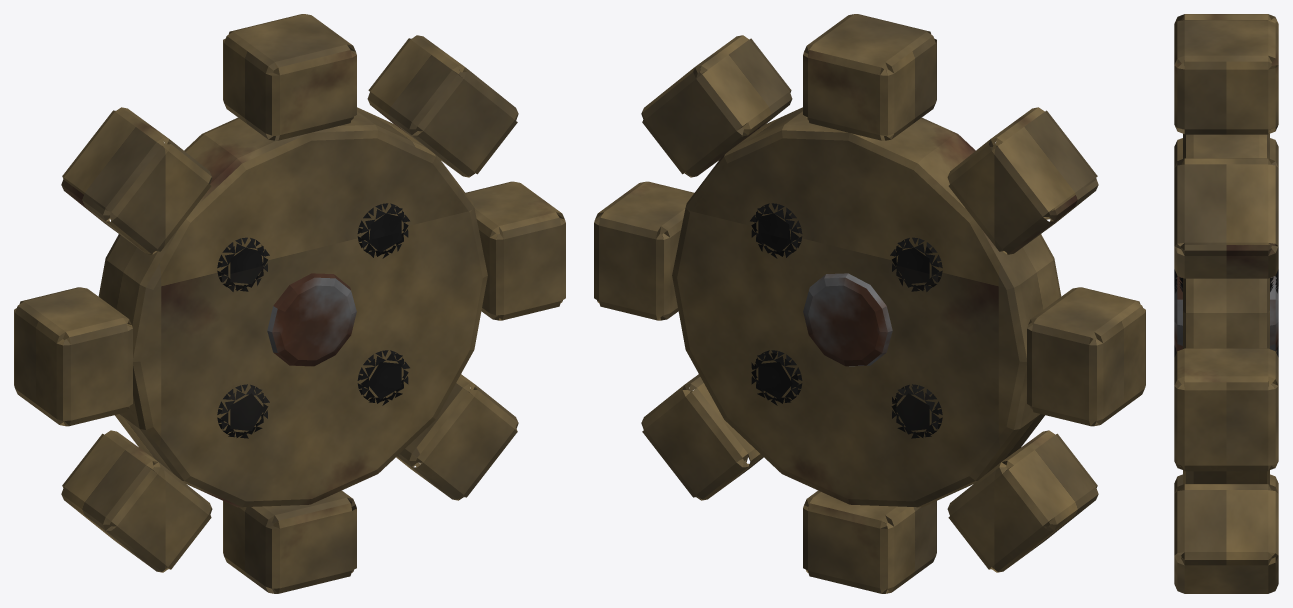
Rendered from P01_brass_gear_cog_v4.glb.
3 views of the same model, side by side, from view 1: azimuth 30°, elevation 25°; view 2: azimuth 150°, elevation 25°; view 3: azimuth 270°, elevation 25° (orthographic).
Visible parts, largest first — view 1: P01_brass_gear_cog_v4; view 2: P01_brass_gear_cog_v4; view 3: P01_brass_gear_cog_v4.
Part boxes in pixels (x1,y1,x2,y2): P01_brass_gear_cog_v4: (14, 14, 565, 593); P01_brass_gear_cog_v4: (594, 14, 1145, 593); P01_brass_gear_cog_v4: (1174, 14, 1278, 593).
Size of the model in its own units: 0.3 by 0.3 by 0.0533.
3 materials, 3 textured.
